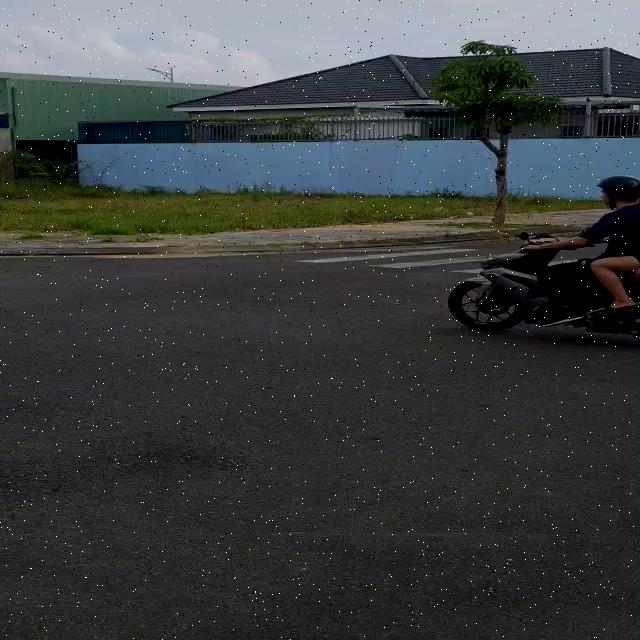helmet: (594, 176, 640, 222)
